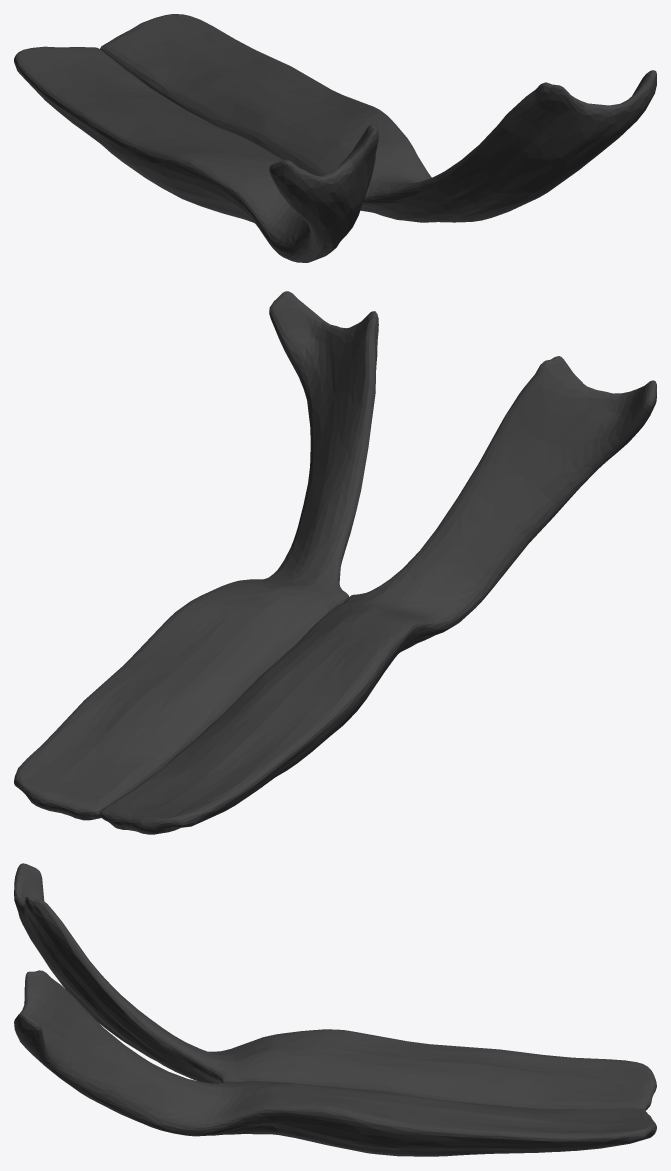
The model's file is m_pectoralis_ascendens.glb.
3 renders of one model, top to bottom at view 1: azimuth 30°, elevation 25°; view 2: azimuth 150°, elevation 25°; view 3: azimuth 270°, elevation 25°, orthographic. The views are drawn at different scales.
Visible parts, largest first — view 1: m_pectoralis_ascendens; view 2: m_pectoralis_ascendens; view 3: m_pectoralis_ascendens.
Boxes of the visible parts, x1,y1,x2,y2 form: m_pectoralis_ascendens: (14, 14, 656, 262); m_pectoralis_ascendens: (14, 291, 656, 834); m_pectoralis_ascendens: (14, 863, 656, 1156).
Bounding box in the file's own units: 0.00589 × 0.0035 × 0.0102.
1 material, 1 textured.
